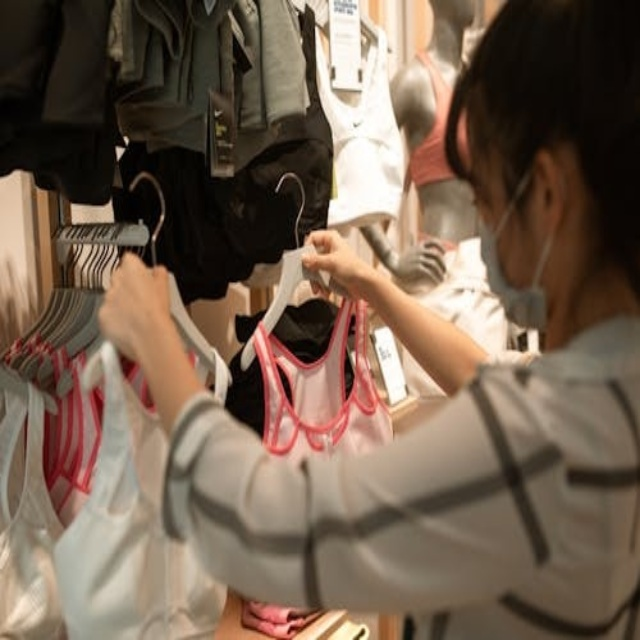Mascara: (475, 163, 556, 330)
Sin_gafas: (468, 151, 535, 230)
Sin_guantes: (96, 252, 179, 375), (301, 225, 374, 304)
